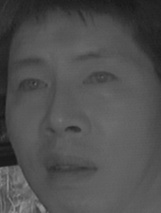eye: (83, 66, 123, 90), (15, 72, 50, 96)
mouth: (40, 150, 99, 184)
